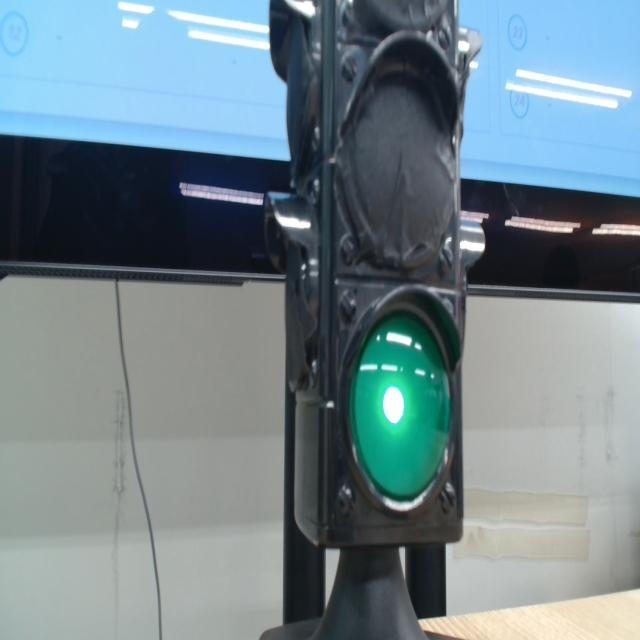green_light: (350, 312, 450, 500)
